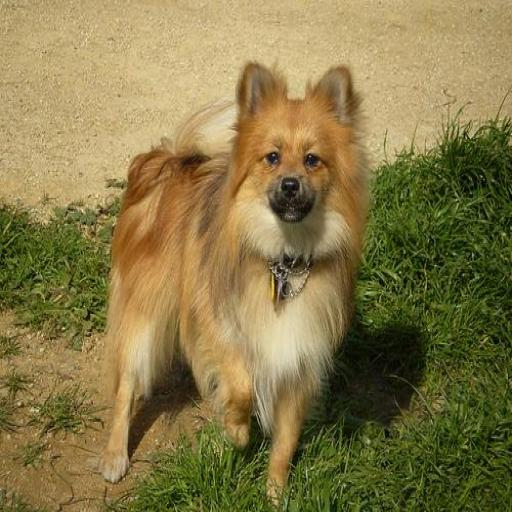dog_face: (231, 63, 352, 226)
